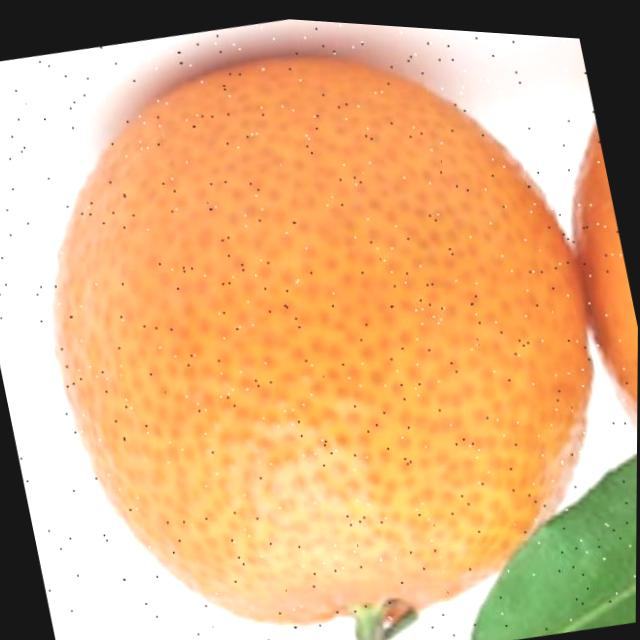Orange: (0, 0, 640, 640), (548, 111, 640, 446)
